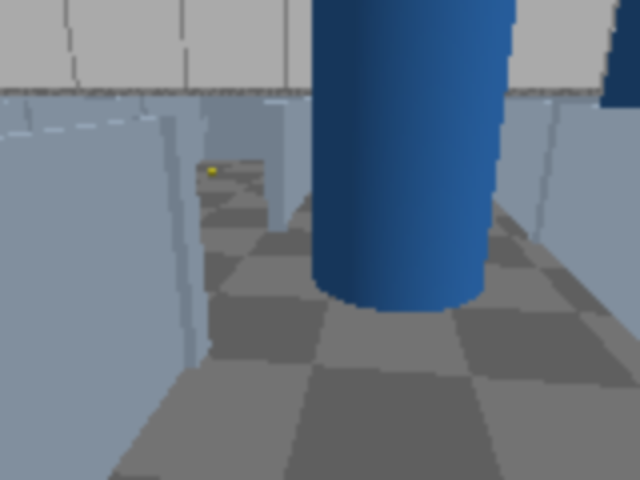person: (585, 0, 638, 242)
